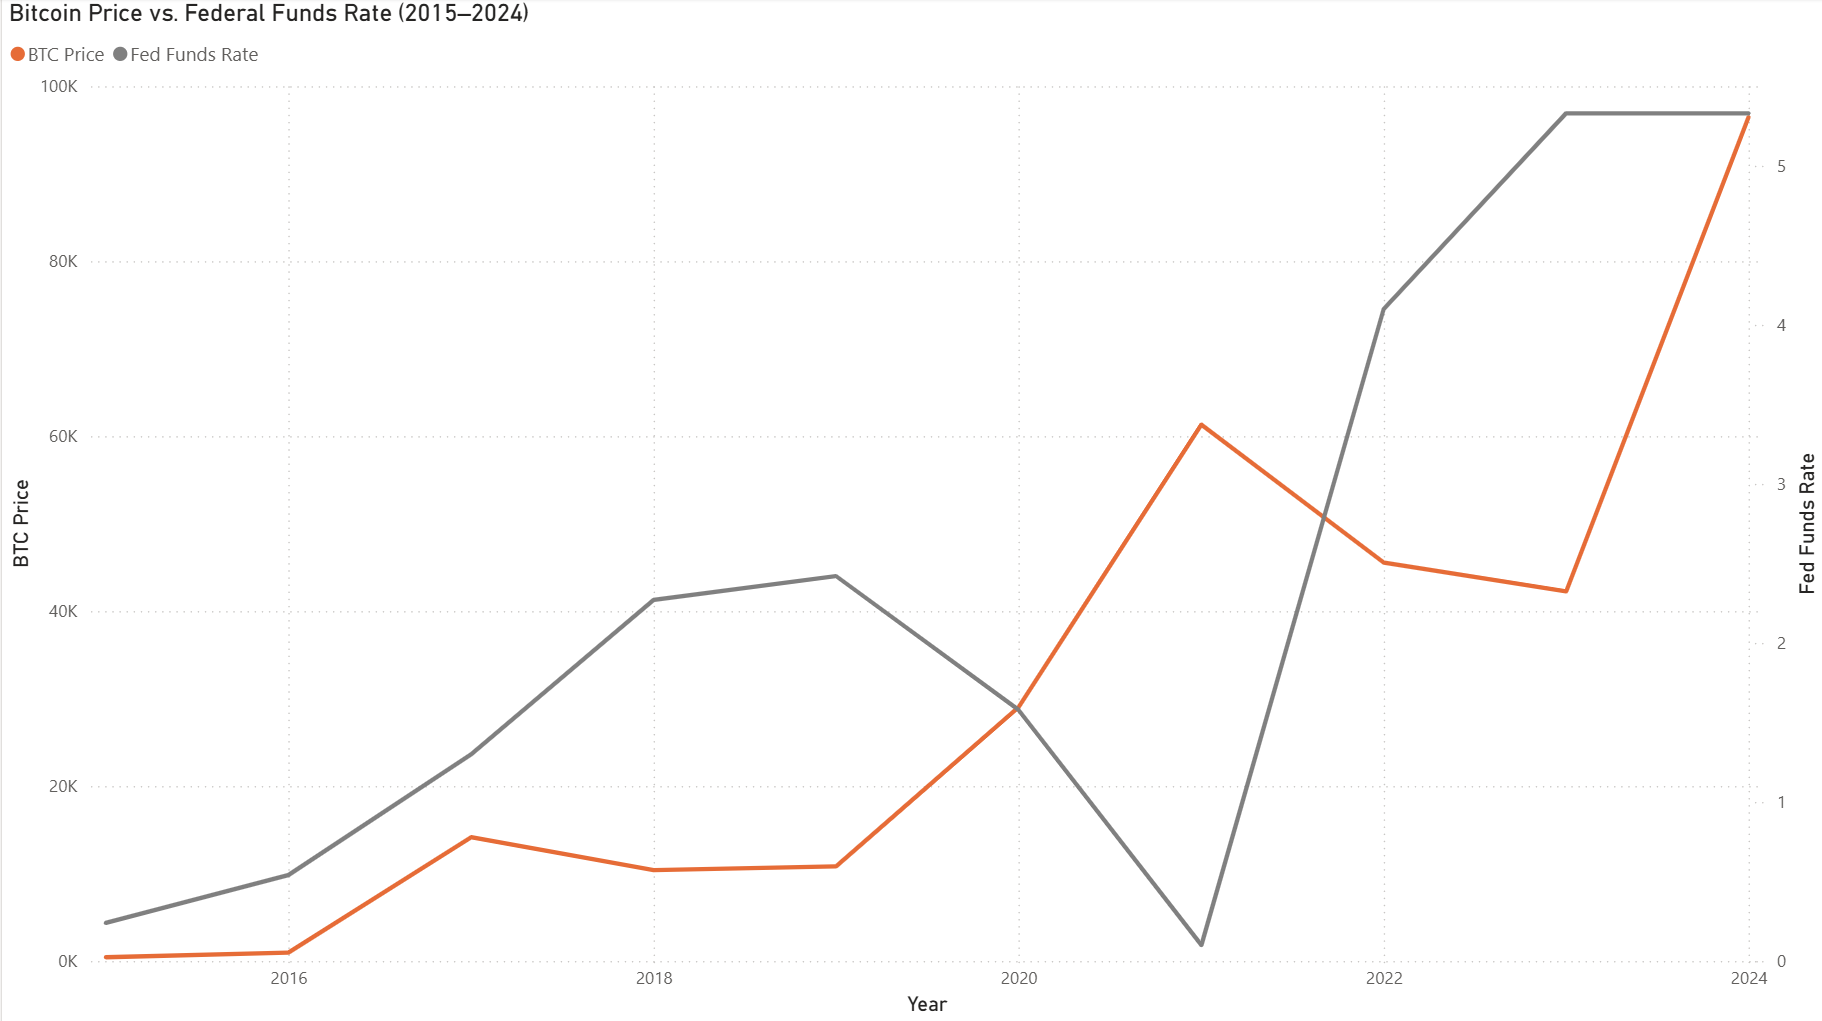

What the dashboard file says about the page in this screenshot:
{"tool":"powerbi","page":{"name":"BTC Price vs Fed Funds Rate","canvas":[1280,720],"ordinal":0},"visuals":[{"type":"lineChart","title":"Bitcoin Price vs. Federal Funds Rate (2015–2024)","fields":{"Category":["btc_macro_data.date.Variation.Date Hierarchy.Year","btc_macro_data.date.Variation.Date Hierarchy.Month"],"Y":["Sum(btc_macro_data.btc_price)"],"Y2":["Sum(btc_macro_data.fed_funds_rate)"]},"box":[0,0,1280,719.9],"z":0}]}

Visuals, with their boxes in screenshot pixels (x1, y1, x2, y2), scaled from the page's 1280x720 canvas onto the 1822x1021 screenshot:
"Bitcoin Price vs. Federal Funds Rate (2015–2024)" lineChart: box(0, 0, 1821, 1020)
